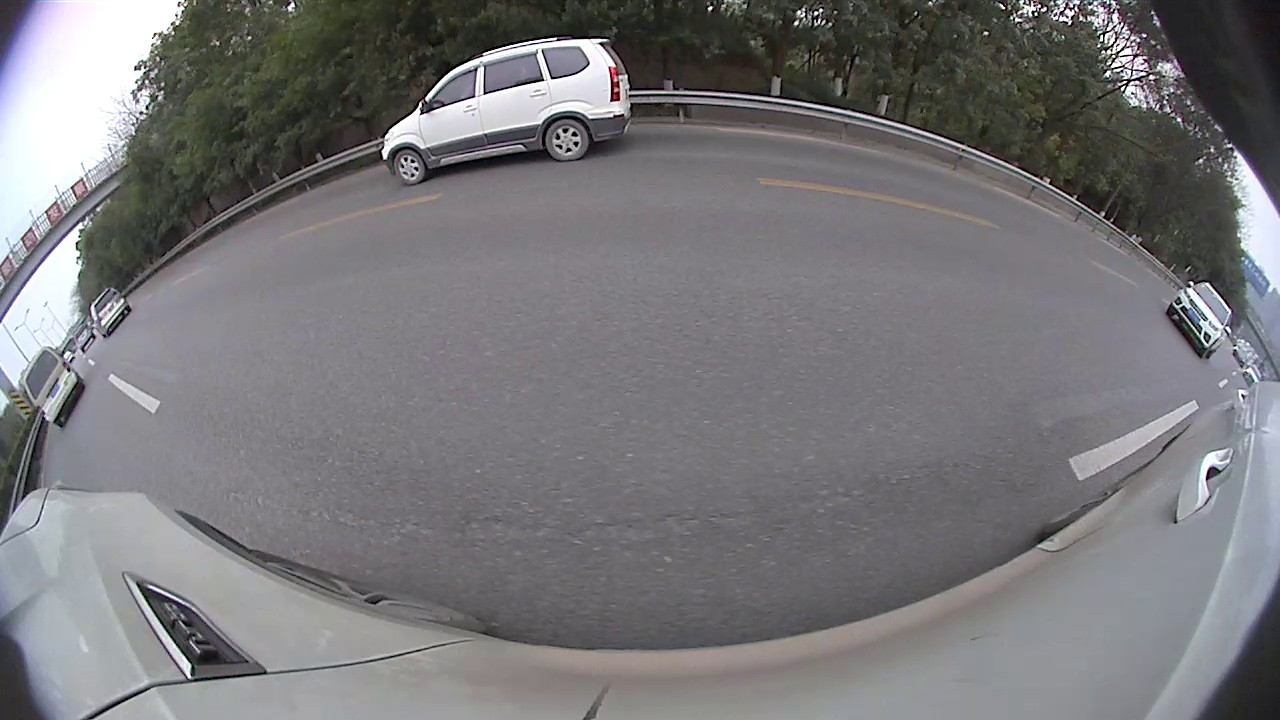bus: (853, 132, 1040, 243)
car: (1037, 239, 1278, 406), (595, 113, 783, 249), (389, 128, 552, 243), (783, 140, 911, 230), (538, 158, 585, 194)
front: (1050, 253, 1084, 296), (537, 181, 553, 213)
rear: (1200, 346, 1243, 407), (813, 186, 840, 224), (496, 190, 519, 229), (908, 190, 926, 220)
